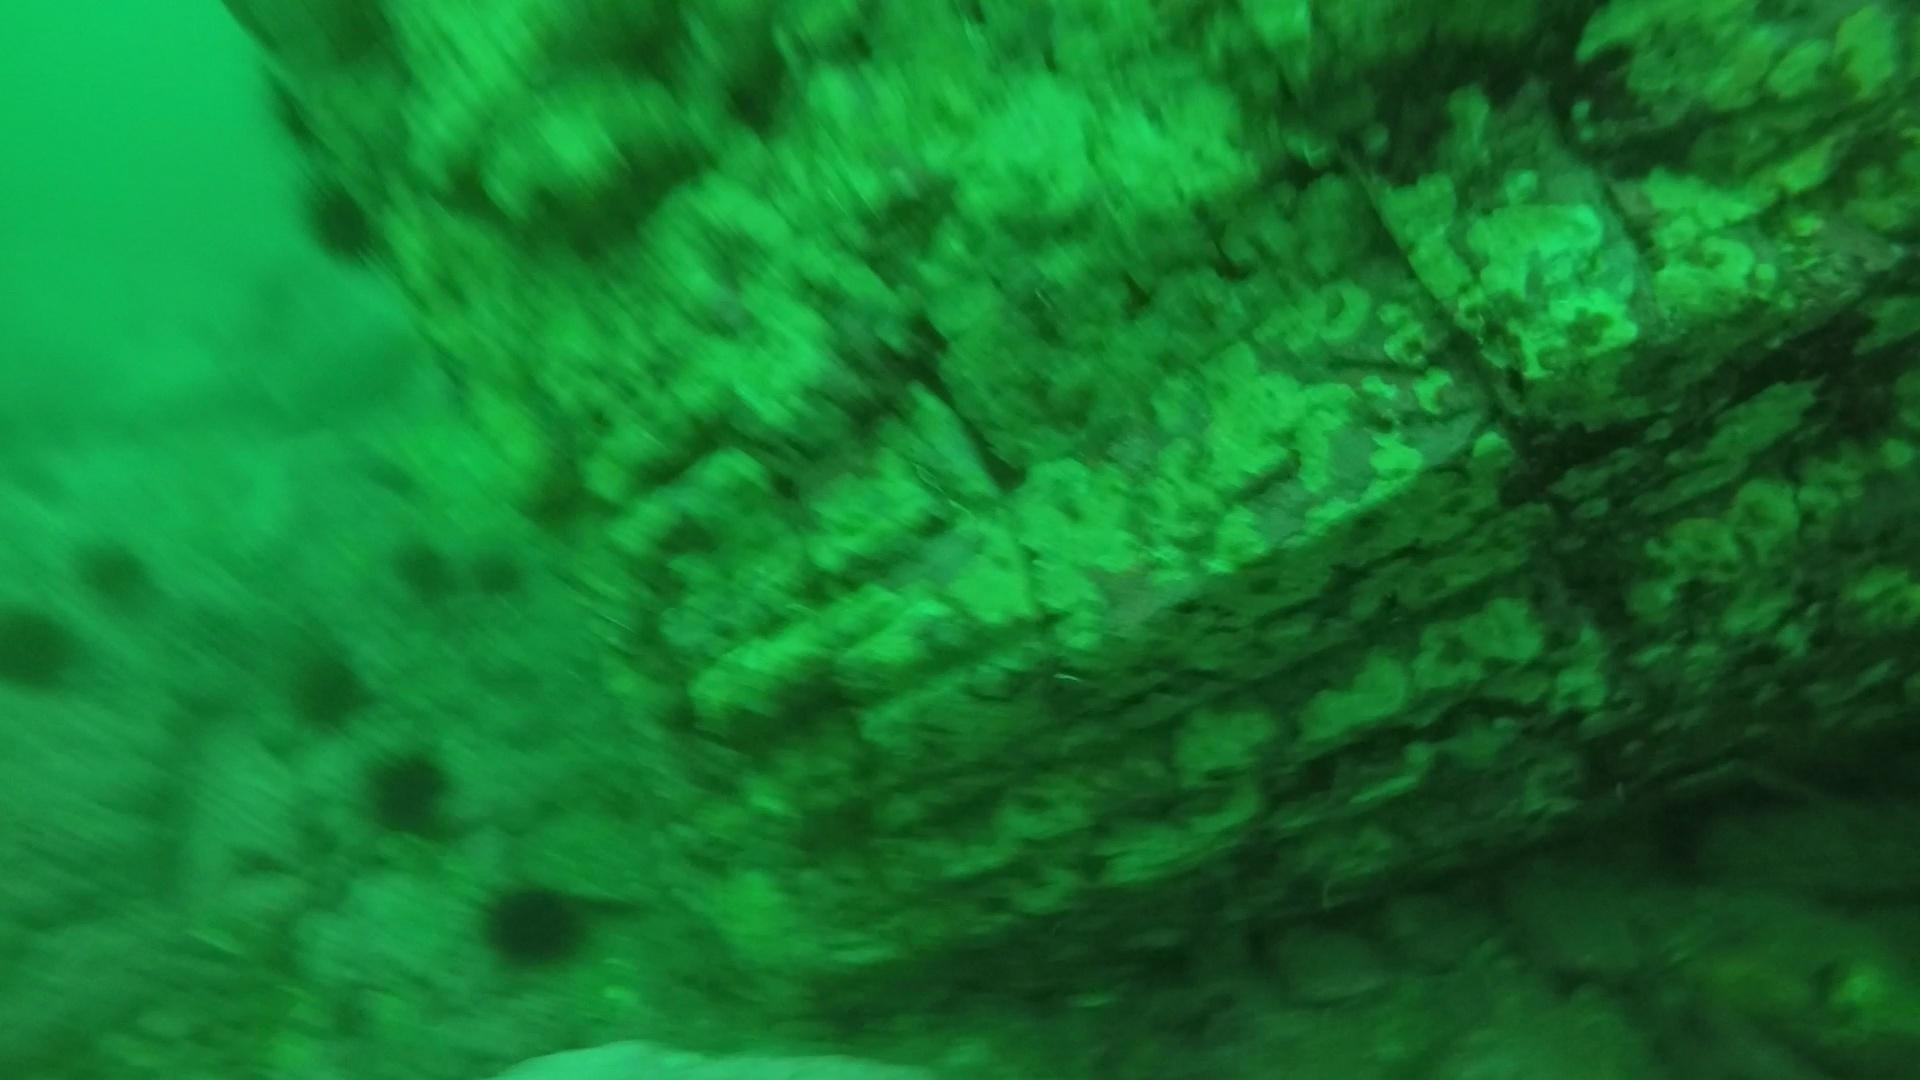echinus: (473, 874, 595, 975), (357, 741, 462, 840), (295, 174, 390, 272), (0, 597, 84, 698), (282, 642, 375, 733), (70, 530, 158, 608), (385, 531, 462, 604), (468, 543, 531, 603)
